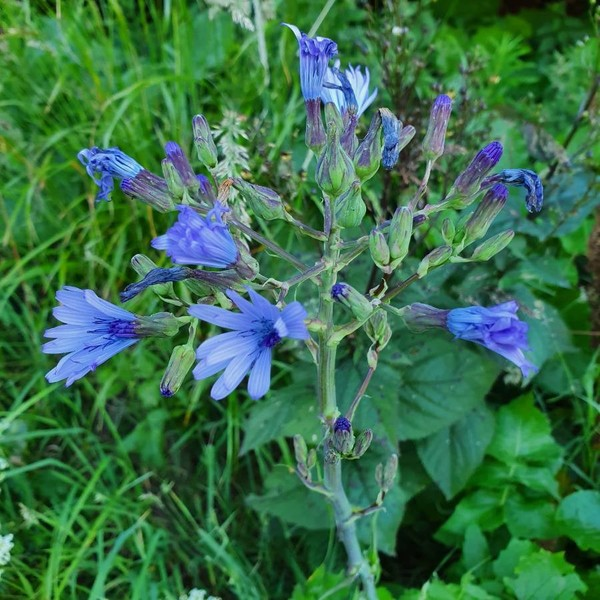obstacle: (46, 35, 517, 526)
